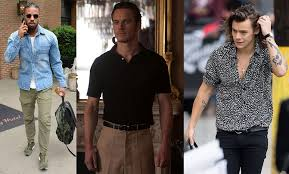F_belt: (99, 117, 159, 135)
